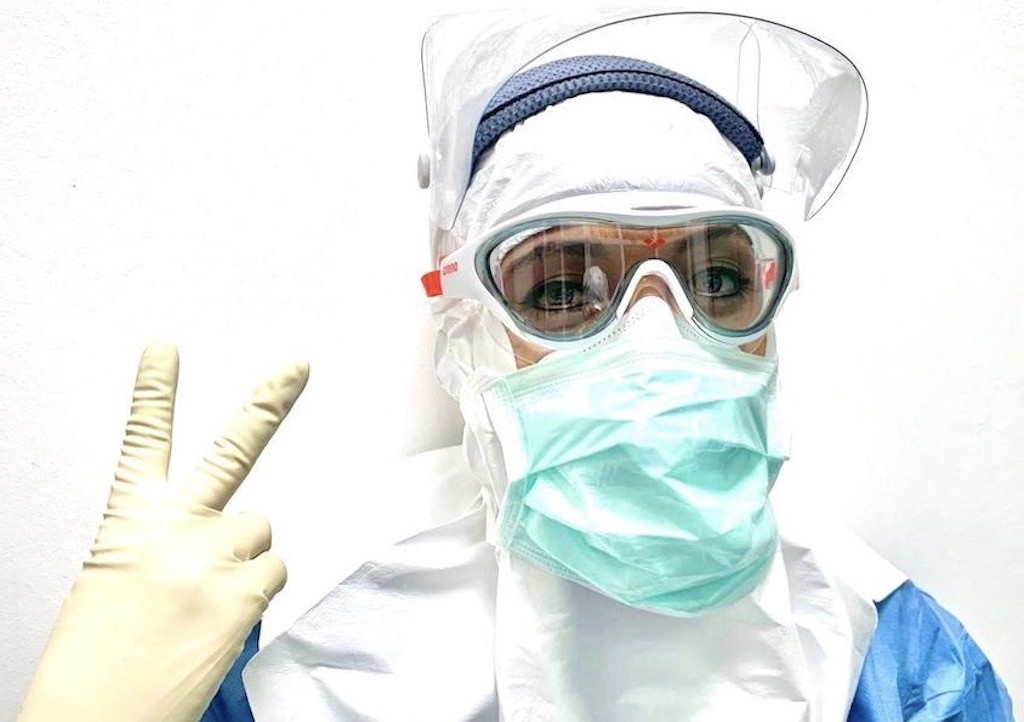Face_Shield: (411, 2, 875, 224)
Gloves: (20, 341, 319, 722)
Goggles: (415, 192, 800, 351)
with_mask: (497, 257, 792, 618)
